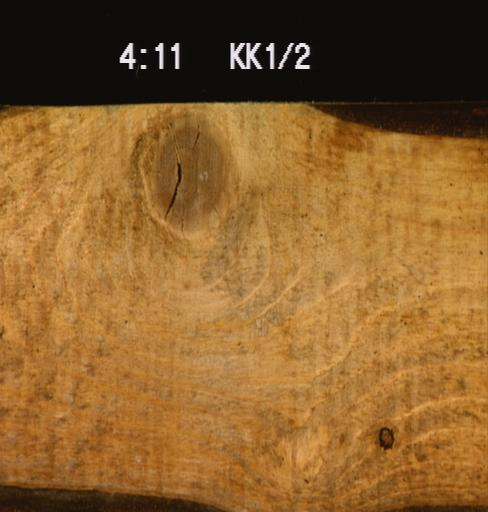dry_knot: (375, 422, 396, 453)
sound_knot: (135, 119, 235, 233)
wave: (309, 101, 486, 147), (0, 476, 232, 510), (0, 104, 59, 171), (377, 493, 487, 510)
